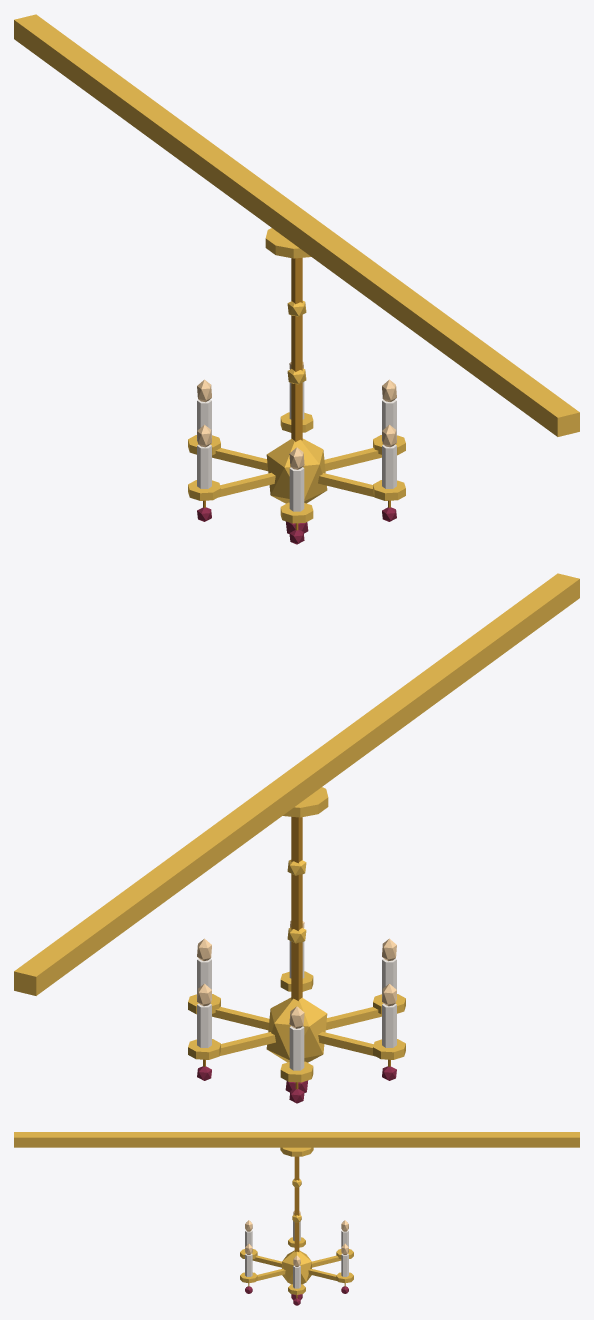
The model's file is CatCafe_Plot_ThemeGrandChandelier_56x43.glb.
The picture shows the model from 3 angles, top to bottom: view 1: azimuth 30°, elevation 25°; view 2: azimuth 150°, elevation 25°; view 3: azimuth 270°, elevation 25°; orthographic projection. The views are drawn at different scales.
Parts seen in each view (by area): view 1: CatCafe_Plot_ThemeGrandChandelier_56x43, CatCafe_Plot_ThemeGrandChandelier_56x43_Glow; view 2: CatCafe_Plot_ThemeGrandChandelier_56x43, CatCafe_Plot_ThemeGrandChandelier_56x43_Glow; view 3: CatCafe_Plot_ThemeGrandChandelier_56x43, CatCafe_Plot_ThemeGrandChandelier_56x43_Glow.
Boxes of the visible parts, x1,y1,x2,y2 form: CatCafe_Plot_ThemeGrandChandelier_56x43: (14,14,579,544); CatCafe_Plot_ThemeGrandChandelier_56x43_Glow: (197,362,396,469); CatCafe_Plot_ThemeGrandChandelier_56x43: (14,573,579,1103); CatCafe_Plot_ThemeGrandChandelier_56x43_Glow: (197,921,396,1028); CatCafe_Plot_ThemeGrandChandelier_56x43: (14,1132,579,1305); CatCafe_Plot_ThemeGrandChandelier_56x43_Glow: (245,1211,348,1266).
Bounding box in the file's own units: 2.32 × 3.32 × 10.19.
Materials: 1 (1 with a texture image).
